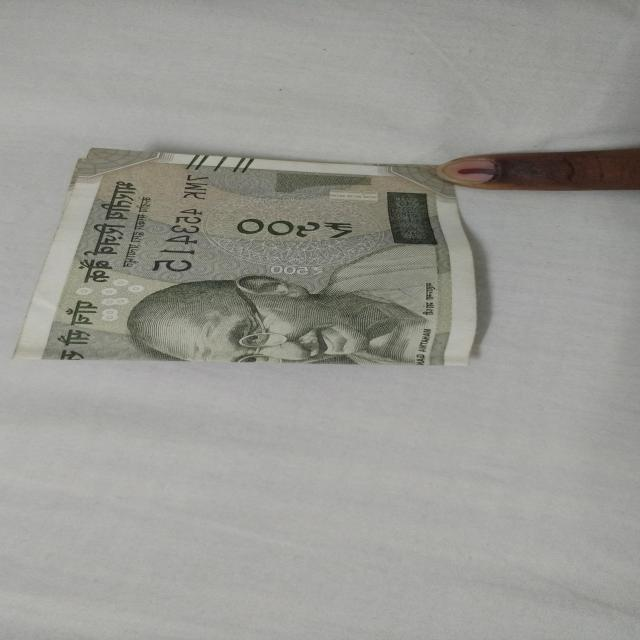Currency: (76, 154, 460, 366)
